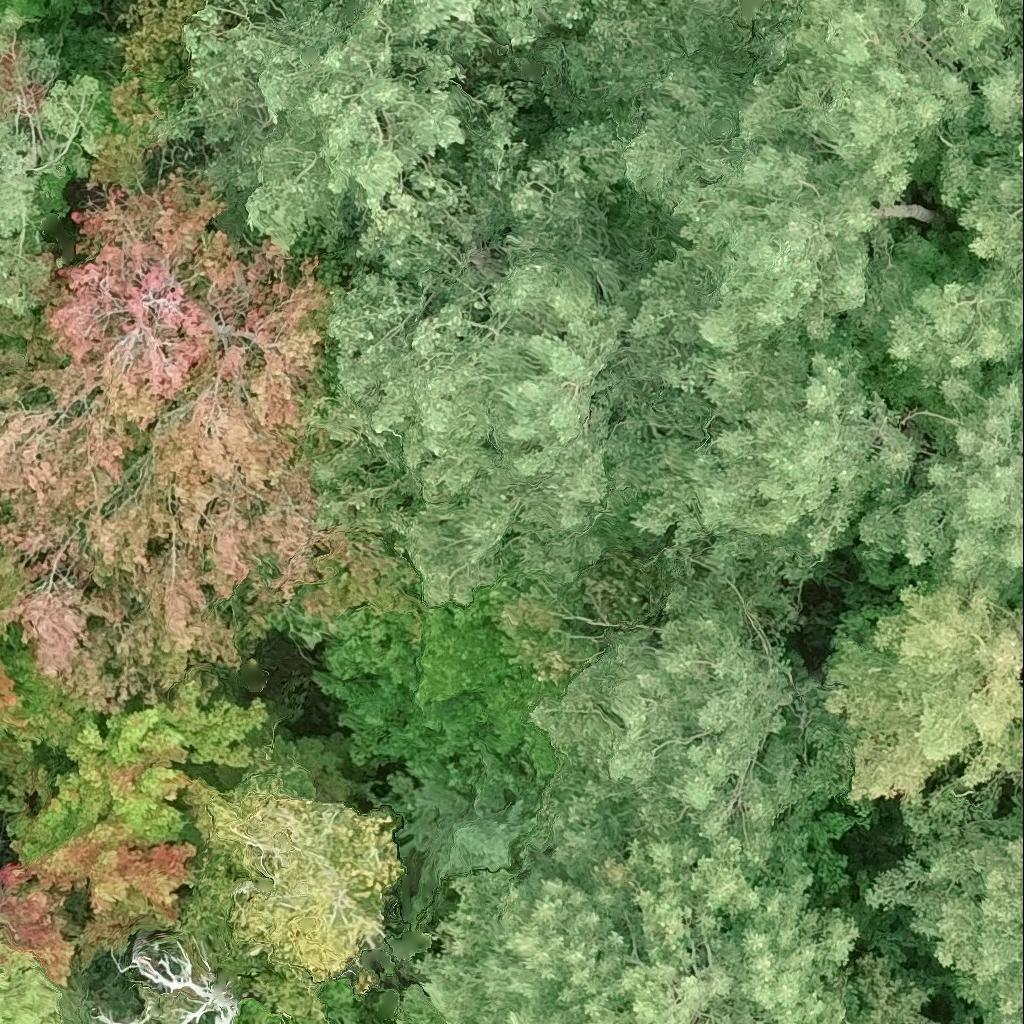crown: (0, 177, 347, 703), (433, 84, 893, 356), (330, 170, 619, 602), (165, 0, 484, 303), (534, 618, 865, 907), (546, 0, 976, 213), (0, 691, 269, 984), (422, 839, 848, 1023), (584, 343, 917, 575), (772, 219, 1023, 420), (811, 591, 1023, 796), (859, 382, 1023, 619), (212, 794, 401, 984), (373, 757, 560, 929), (0, 7, 98, 305), (875, 834, 1023, 1023), (926, 0, 1023, 277), (377, 0, 632, 50), (129, 939, 238, 1023), (0, 969, 61, 1023), (233, 1007, 273, 1023), (1014, 667, 1023, 684), (1019, 609, 1023, 623), (460, 1020, 470, 1023)
